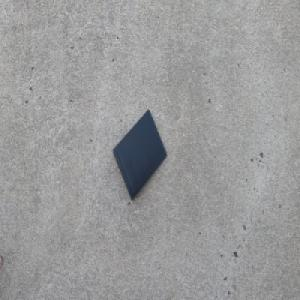PlasticPart: (112, 108, 167, 202)
